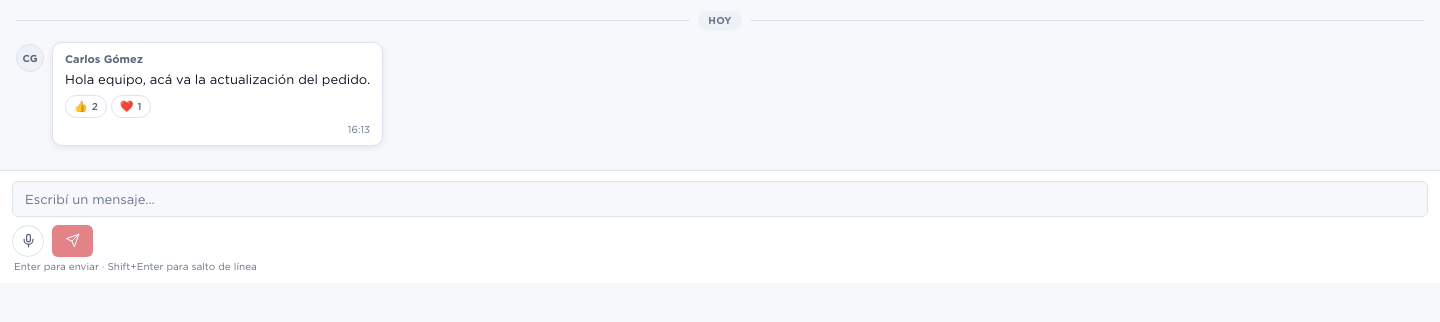
Scenario: ThreadView · Reacciones Optimistas, Realtime Determinista y Feedback Accesible (HIGH 3) › 8. Feedback de error accesible con role='alert' y aria-live='assertive' ante rechazo del servidor
Click the button "👍 2".
click(86, 106)  # box [65, 95, 107, 118]
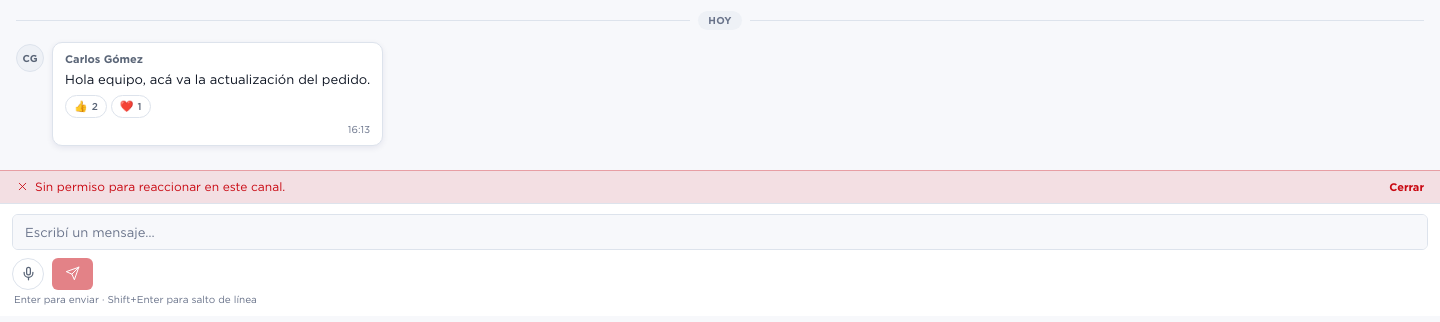
Expected: the message "Sin permiso para reaccionar en este canal. Cerrar" is shown, [0, 170, 1439, 202]
Click the button "👍 2".
click(86, 106)  # box [65, 95, 107, 118]
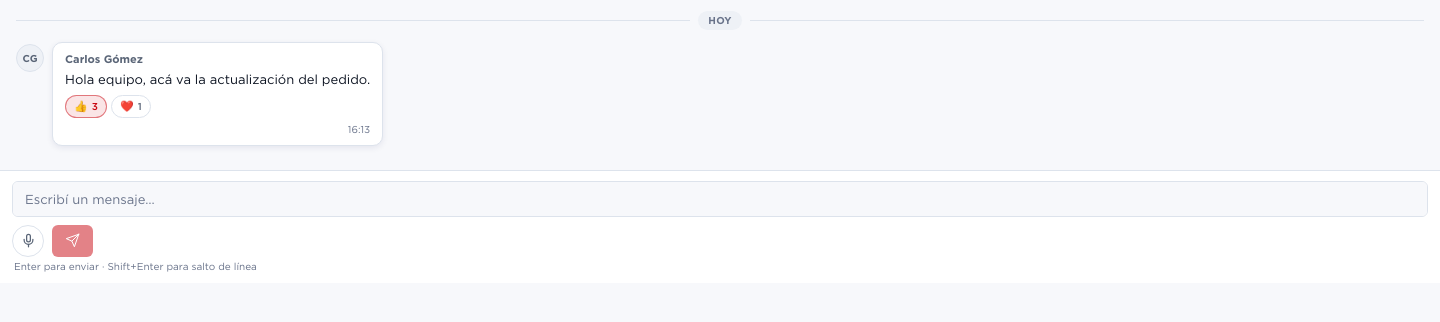
Expected: the message "Sin permiso para reaccionar en este canal. Cerrar" is gone
